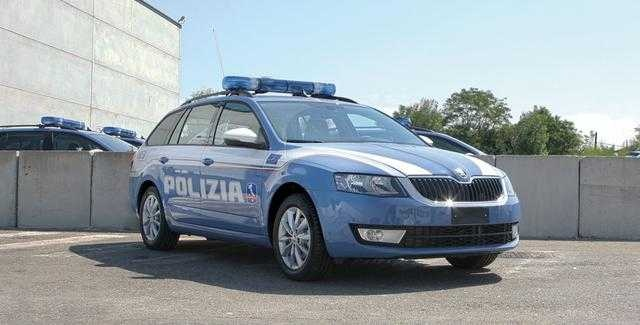Police Car: (110, 63, 537, 281)
